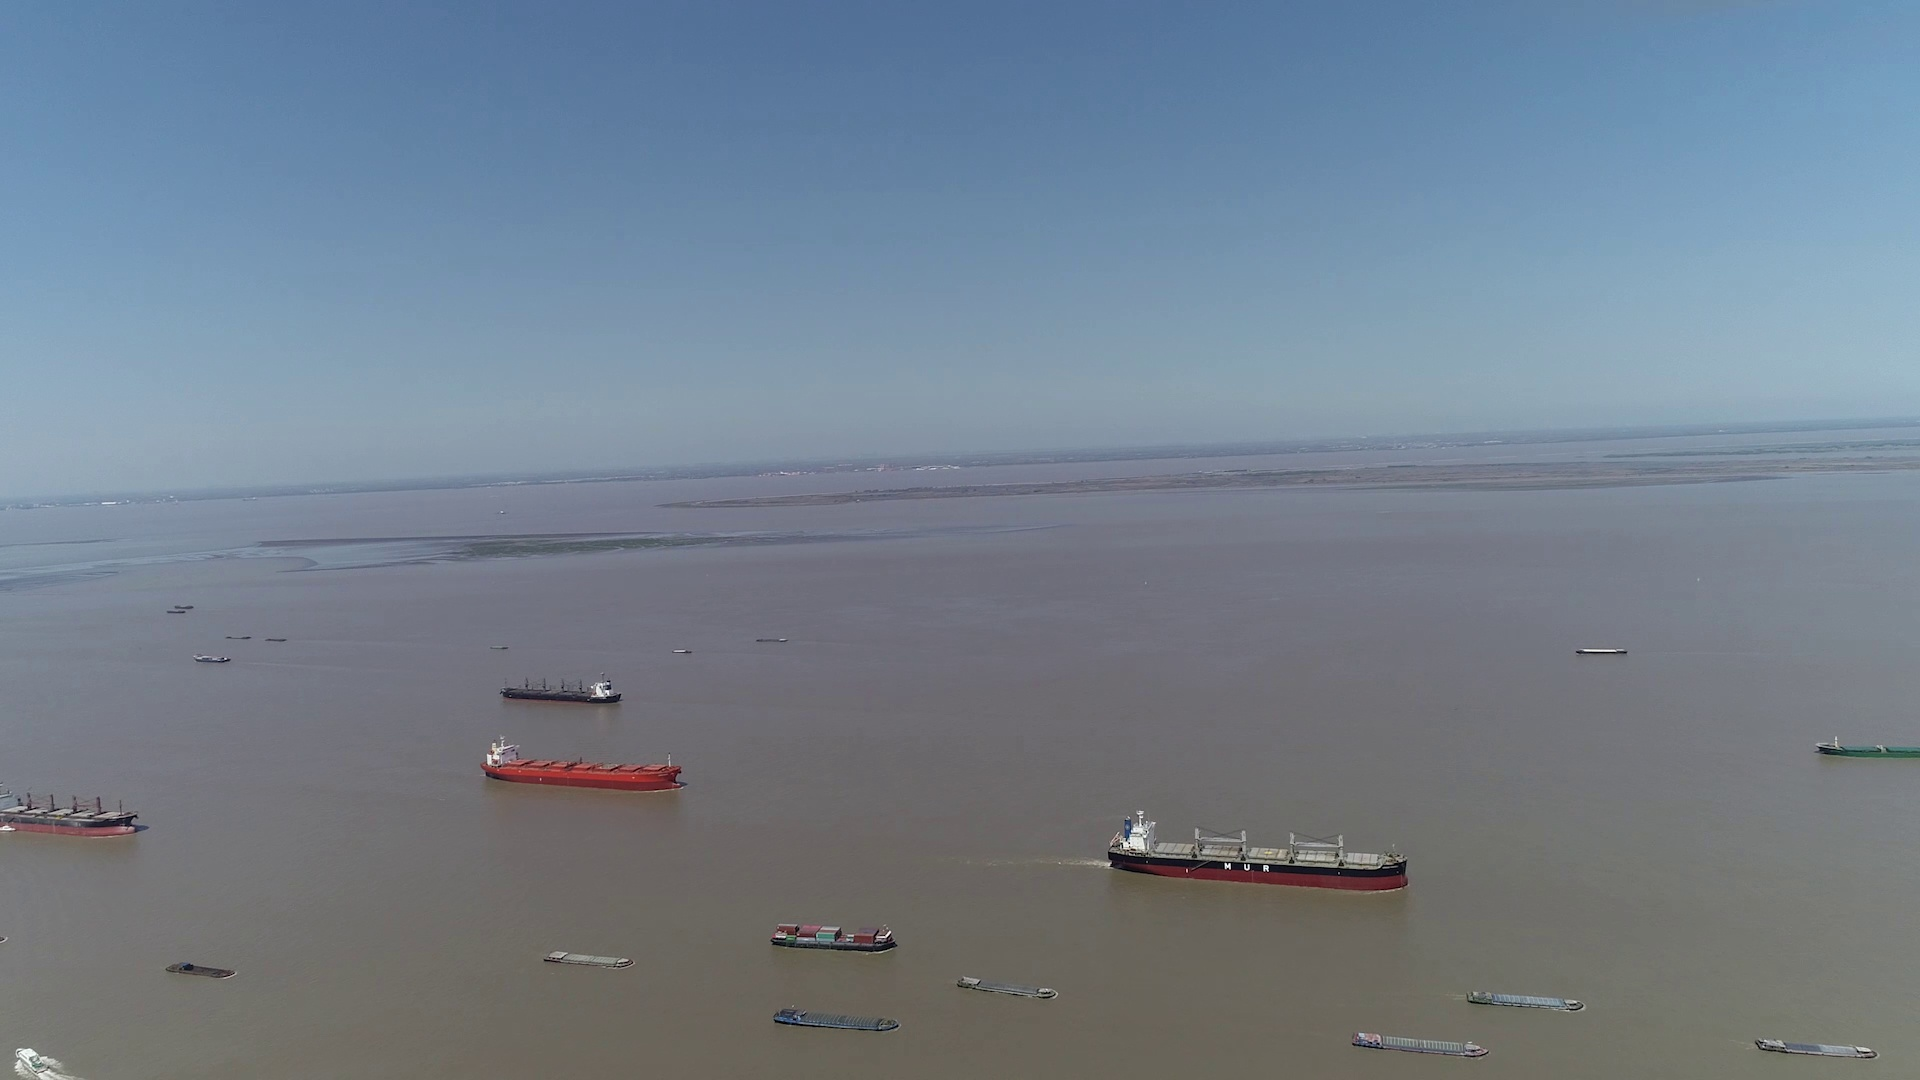ship: (1104, 810, 1414, 894), (483, 735, 684, 791), (0, 786, 142, 839), (769, 922, 898, 953), (501, 673, 621, 703), (1352, 1031, 1487, 1058), (770, 1006, 897, 1033), (1753, 1035, 1876, 1059), (1466, 990, 1585, 1011), (956, 976, 1059, 1000), (1816, 738, 1920, 760), (9, 1040, 57, 1079), (545, 949, 633, 969), (165, 963, 237, 978), (1573, 646, 1627, 655), (194, 651, 229, 663)
